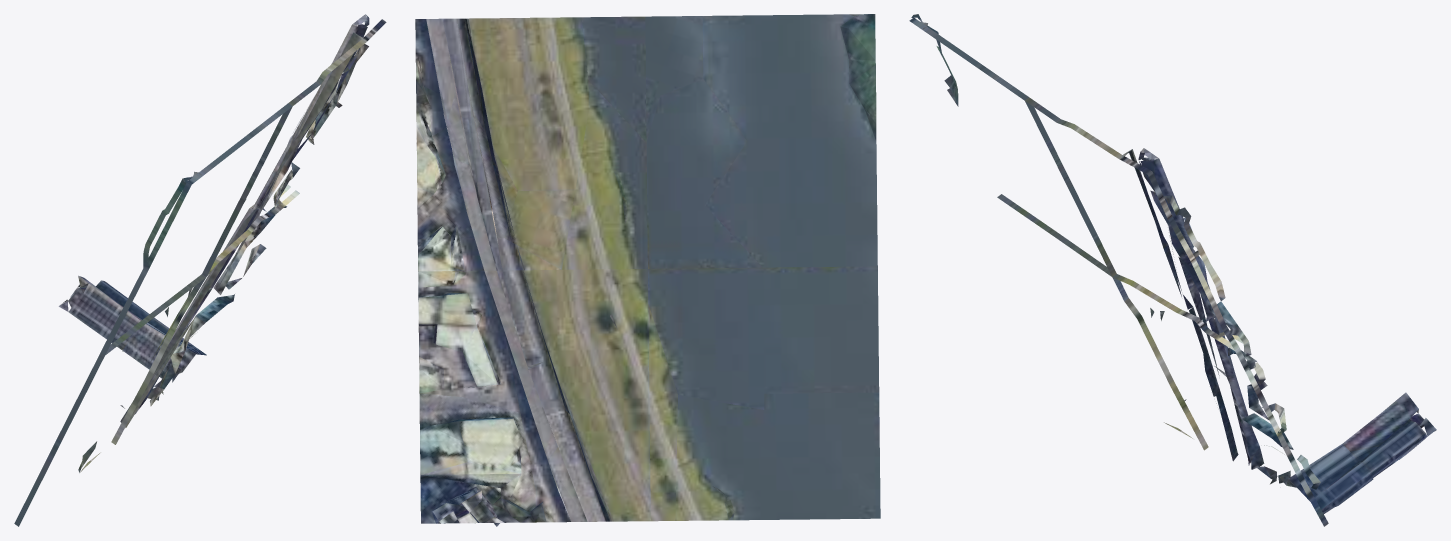
3 views of the same model, side by side, from view 1: azimuth 30°, elevation 25°; view 2: azimuth 150°, elevation 25°; view 3: azimuth 270°, elevation 25° (orthographic). The views are drawn at different scales.
Bounding box in the file's own units: 303 × 284 × 331.
Materials: 1 (1 with a texture image).
